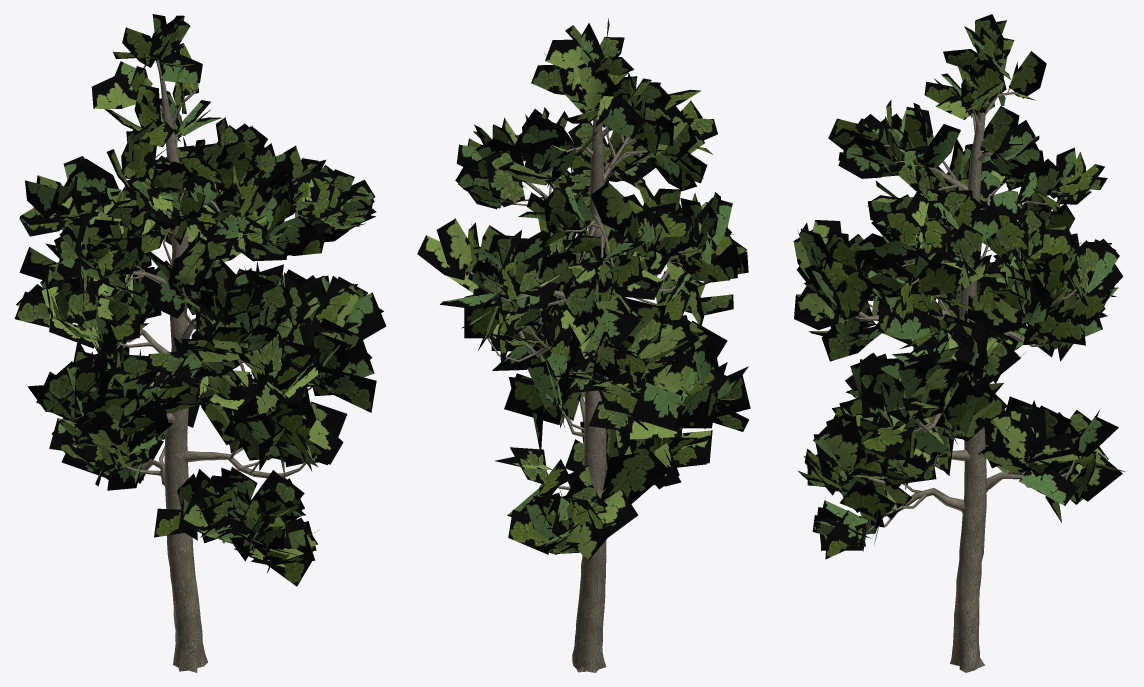
The model's file is Oak_White_Desktop_Field_3_001_d19ae7.glb.
3 views of the same model, side by side, from view 1: azimuth 30°, elevation 25°; view 2: azimuth 150°, elevation 25°; view 3: azimuth 270°, elevation 25° (orthographic). The views are drawn at different scales.
Size of the model in its own units: 5.99 by 11.8 by 5.85.
Materials: 2 (2 with a texture image).
